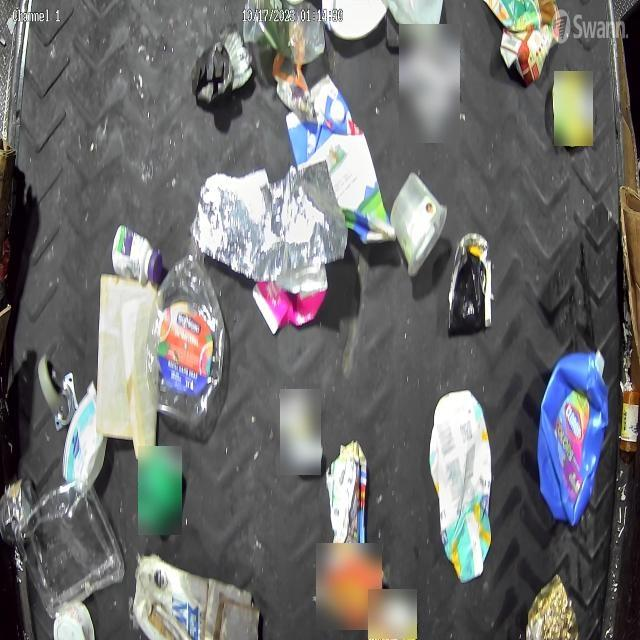non_white_jug: (536, 346, 611, 530)
plastic_bottle: (147, 244, 226, 426)
